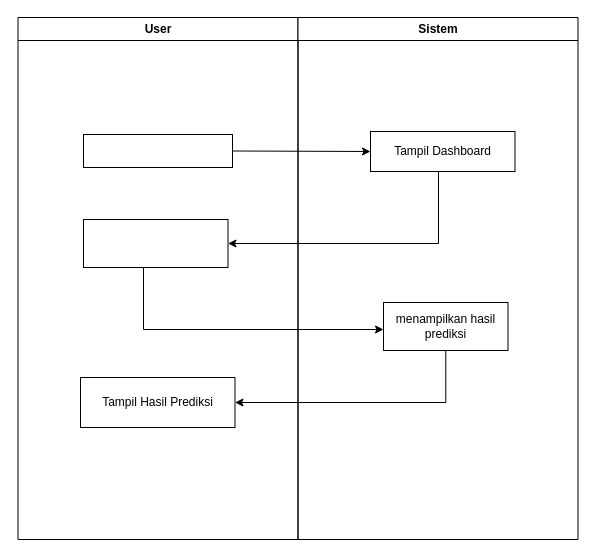
This 595x557 diagram has some shape labels left out. The shapes that lost their labels are listed below. From the top down, each one's centre as x and y in pixels, then its label:
At point 157,151: "login".
At point 155,243: "Input tahun".
